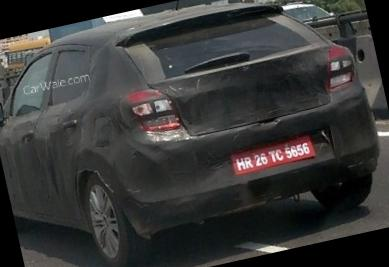plate: (221, 127, 323, 179)
